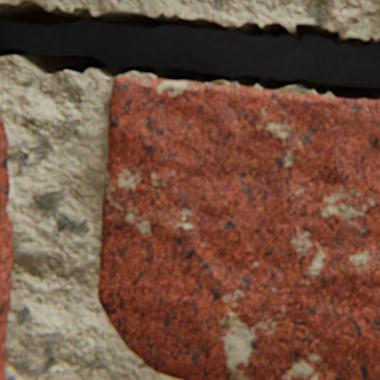brick: (99, 77, 379, 379), (0, 113, 13, 379)
crack: (0, 0, 379, 99)
